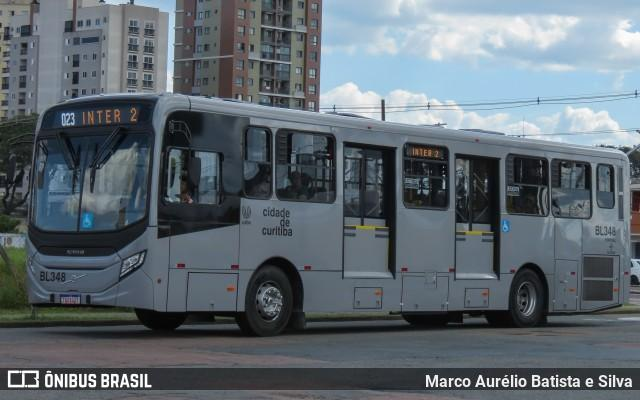INTER2: (77, 103, 141, 129)
